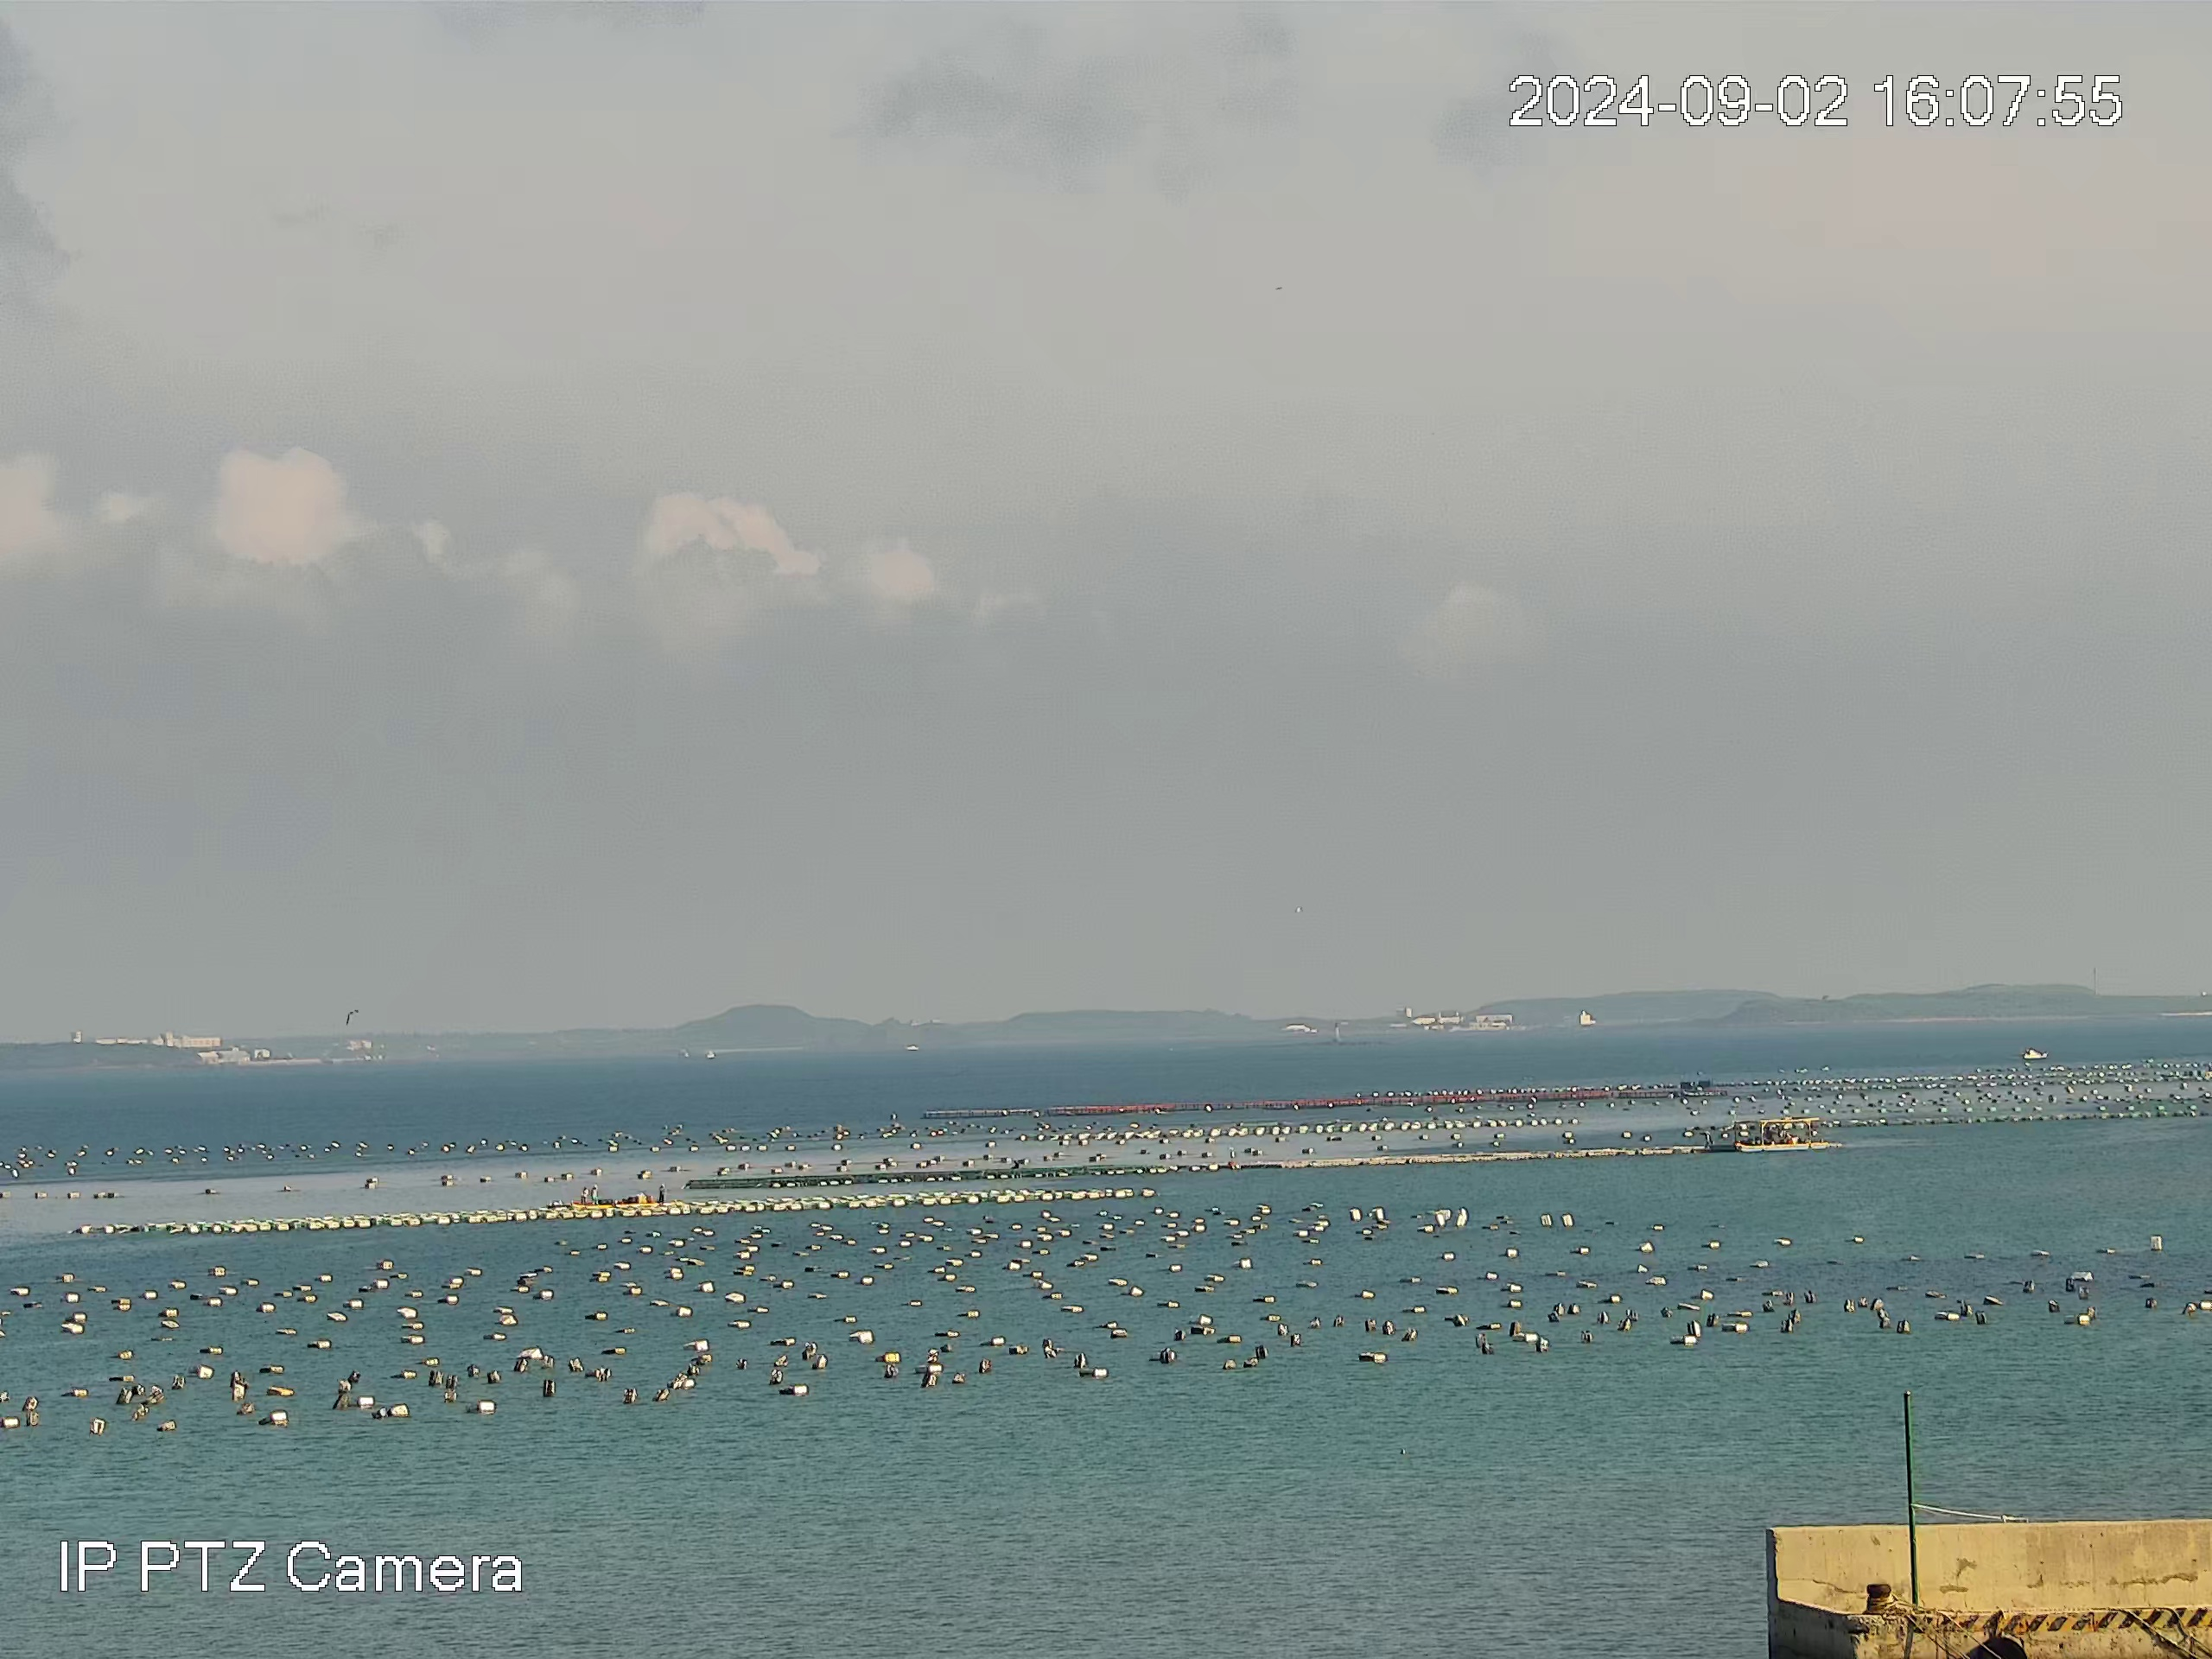boat: (1733, 1117, 1831, 1154), (568, 1182, 662, 1209), (2020, 1046, 2050, 1060)
